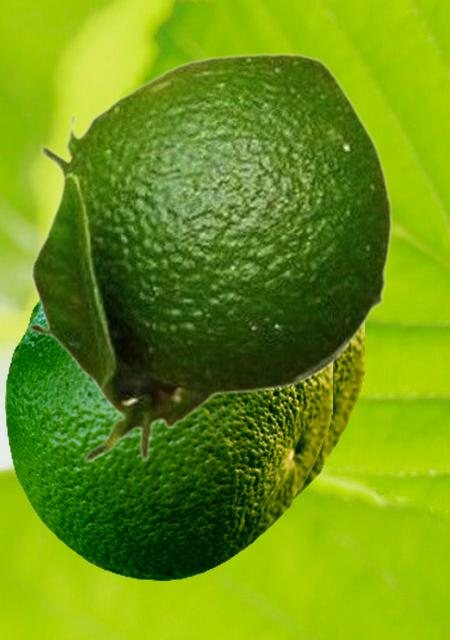dalandan: (25, 52, 392, 463), (5, 304, 331, 579), (24, 298, 363, 504)
